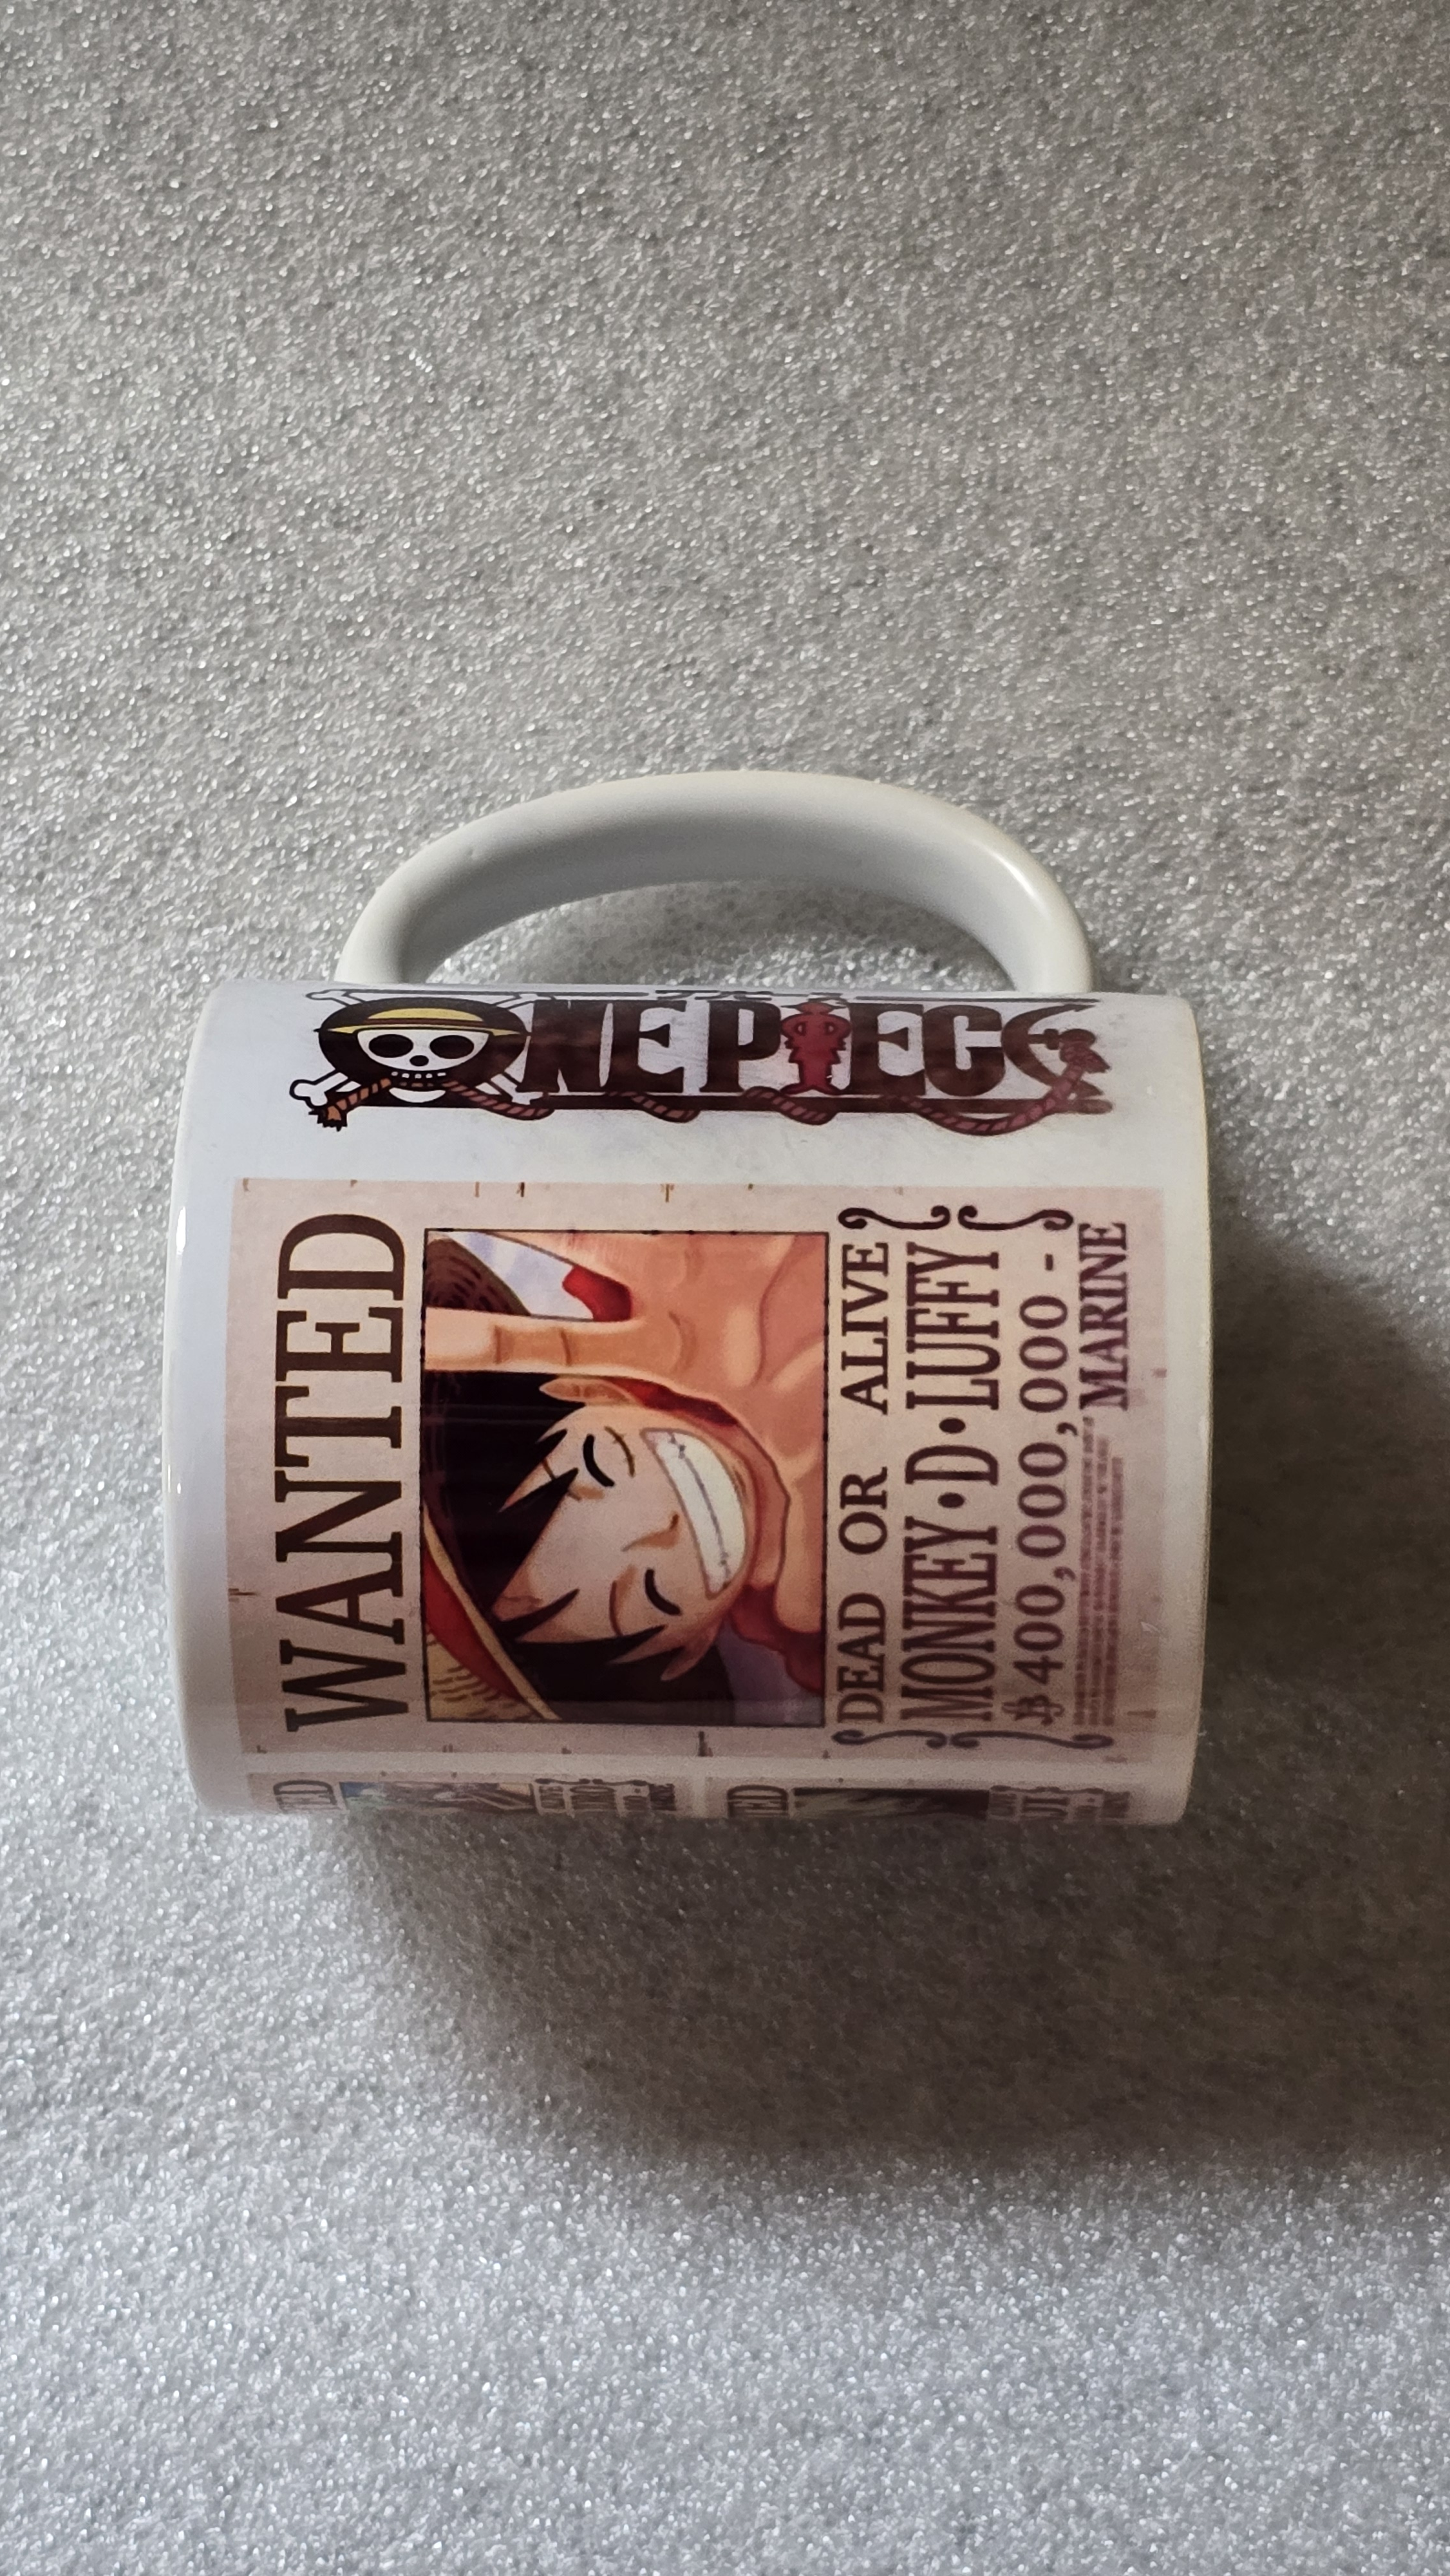mug: (136, 757, 1273, 1934)
